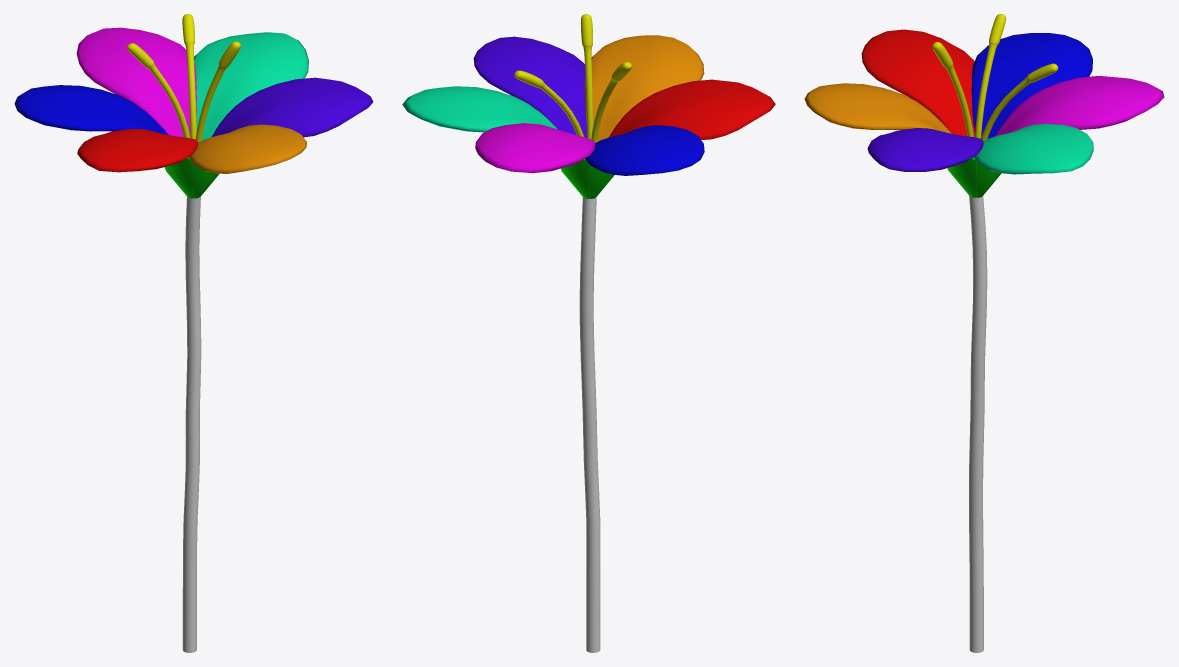
File: MD_Flower.fbx
3 views of the same model, side by side, from view 1: azimuth 30°, elevation 25°; view 2: azimuth 150°, elevation 25°; view 3: azimuth 270°, elevation 25° (orthographic).
Visible parts, largest first — view 1: MD_Flower, MD_Stem; view 2: MD_Flower, MD_Stem; view 3: MD_Flower, MD_Stem.
Boxes of the visible parts, x1,y1,x2,y2 form: MD_Flower: (14,14,373,198); MD_Stem: (182,196,201,652); MD_Flower: (402,14,775,198); MD_Stem: (579,197,600,652); MD_Flower: (804,14,1164,197); MD_Stem: (969,195,987,652).
Size of the model in its own units: 1101 by 2255 by 1186.
